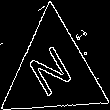N_SE: (26, 39, 80, 103)
